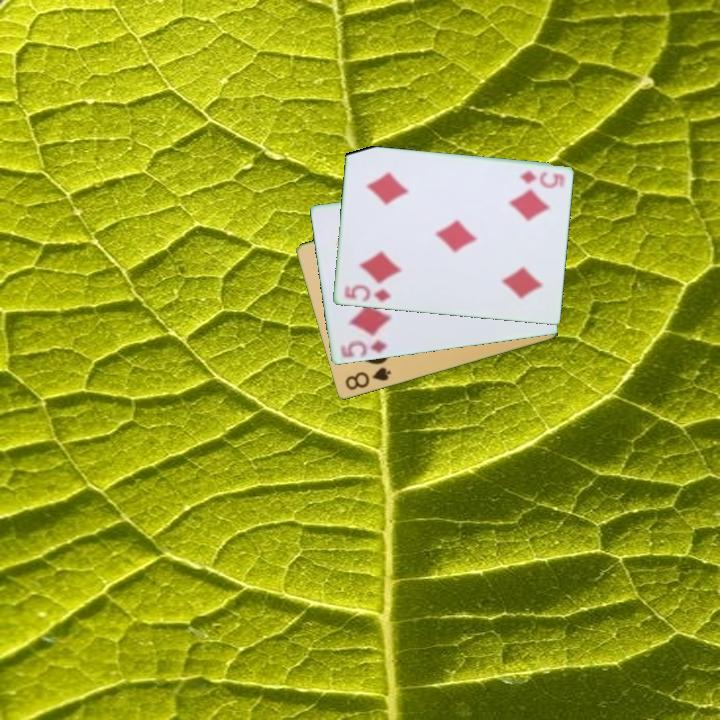5d: (336, 336, 390, 361), (340, 282, 393, 305), (516, 167, 568, 190)
8s: (341, 364, 394, 393)
